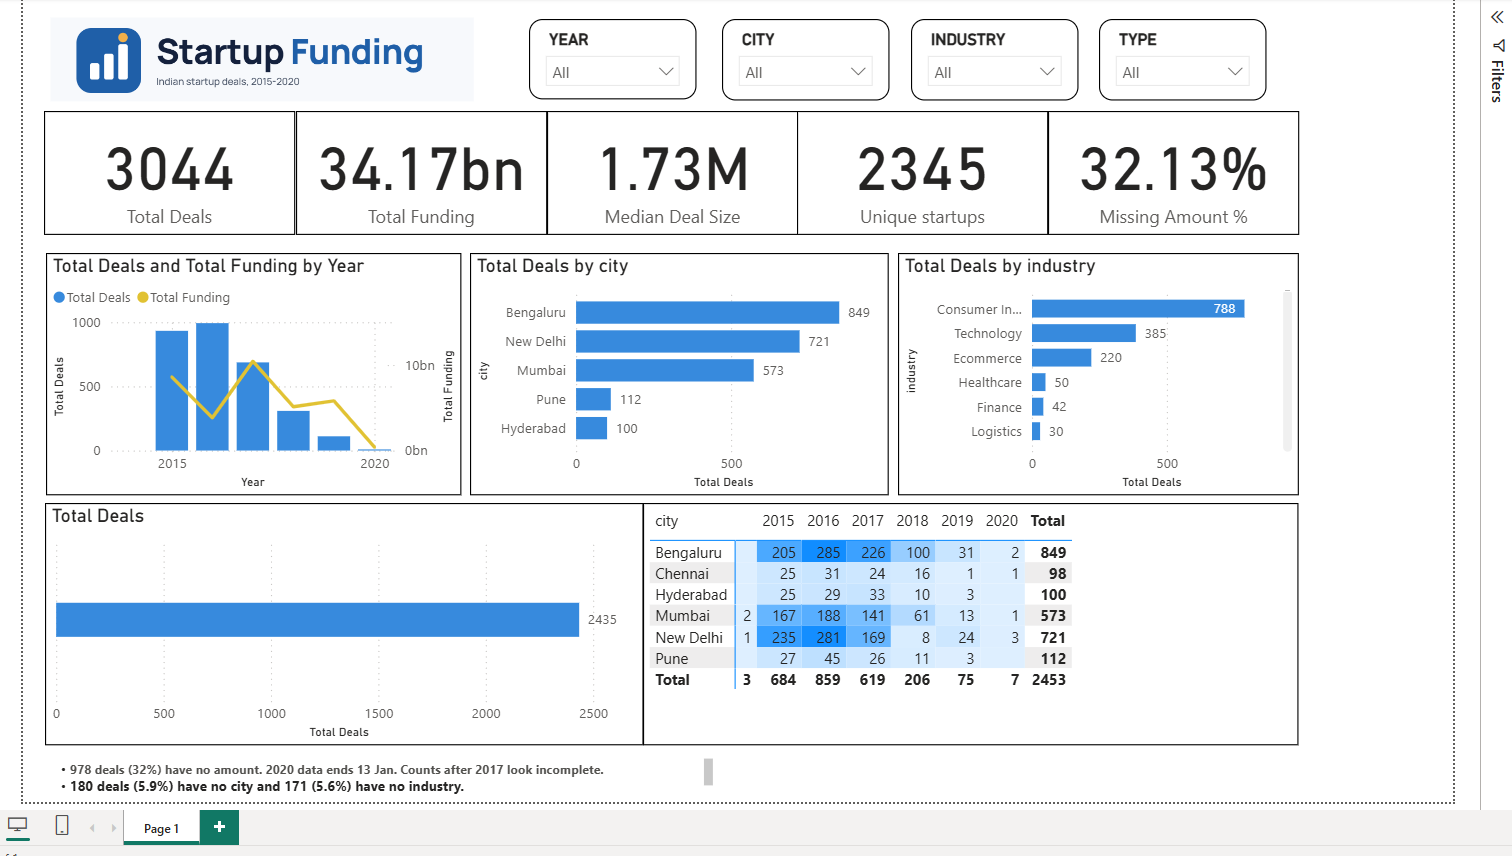

Layout of this report page (visuals, bound fields, positions):
{"tool":"powerbi","page":{"name":"Page 1","canvas":[1280,720],"ordinal":0},"visuals":[{"type":"card","title":"TOTAL DEALS","fields":{"Values":["Table.Total Deals"]},"box":[18.5,101.2,224.7,110.9],"z":0},{"type":"card","fields":{"Values":["Table.Total Funding"]},"box":[244.1,101.2,224.7,110.9],"z":1000},{"type":"card","fields":{"Values":["Table.Median Deal Size"]},"box":[468.8,101.2,224.7,110.9],"z":2000},{"type":"card","fields":{"Values":["Table.Unique startups"]},"box":[693.5,101.2,224.7,110.9],"z":3000},{"type":"card","fields":{"Values":["Table.Missing Amount %"]},"box":[918.2,101.2,224.7,110.9],"z":4000},{"type":"lineStackedColumnComboChart","fields":{"Category":["Date.Year"],"Y2":["Table.Total Funding"],"Y":["Table.Total Deals"]},"box":[20.4,228.6,371.6,216.9],"z":5000},{"type":"clusteredBarChart","fields":{"Y":["Table.Total Deals"],"Category":["startup_funding_clean.city"]},"box":[400.7,228.6,375.4,216.9],"z":6000},{"type":"clusteredBarChart","fields":{"Y":["Table.Total Deals"],"Category":["startup_funding_clean.industry"]},"box":[784,228.6,358.9,216.9],"z":7000},{"type":"clusteredBarChart","fields":{"Y":["Table.Total Deals"]},"box":[19.5,452.3,535.9,216.9],"z":8000},{"type":"pivotTable","fields":{"Rows":["startup_funding_clean.city"],"Columns":["Date.Date.Variation.Date Hierarchy.Year","Date.Date.Variation.Date Hierarchy.Quarter","Date.Date.Variation.Date Hierarchy.Month","Date.Date.Variation.Date Hierarchy.Day"],"Values":["Table.Total Deals"]},"box":[555.4,452.3,587.5,216.9],"z":9000},{"type":"slicer","title":"Year","fields":{"Values":["Date.Year"]},"box":[453.1,18.8,150.4,71.6],"z":10000},{"type":"slicer","title":"Year","fields":{"Values":["startup_funding_clean.city"]},"box":[626,18.8,149.6,73.4],"z":11000},{"type":"slicer","title":"Year","fields":{"Values":["startup_funding_clean.industry"]},"box":[795.2,18.8,149.6,73.4],"z":12000},{"type":"slicer","title":"Year","fields":{"Values":["startup_funding_clean.investment_type"]},"box":[963.6,18.8,149.6,73.4],"z":13000},{"type":"image","box":[19.5,12.6,389.1,84.6],"z":14000},{"type":"textbox","box":[18.8,676.1,604.5,43.9],"z":15000}]}

Visuals, with their boxes in screenshot pixels (x1, y1, x2, y2):
"TOTAL DEALS" card: [x1=37, y1=106, x2=289, y2=230]
card - Table.Total Funding: [x1=290, y1=106, x2=543, y2=230]
card - Table.Median Deal Size: [x1=543, y1=106, x2=795, y2=230]
card - Table.Unique startups: [x1=795, y1=106, x2=1047, y2=230]
card - Table.Missing Amount %: [x1=1047, y1=106, x2=1300, y2=230]
lineStackedColumnComboChart - Date.Year x Table.Total Funding: [x1=39, y1=249, x2=456, y2=493]
clusteredBarChart - Table.Total Deals x startup_funding_clean.city: [x1=466, y1=249, x2=888, y2=493]
clusteredBarChart - Table.Total Deals x startup_funding_clean.industry: [x1=897, y1=249, x2=1300, y2=493]
clusteredBarChart - Table.Total Deals: [x1=38, y1=500, x2=640, y2=744]
pivotTable - startup_funding_clean.city x Date.Date.Variation.Date Hierarchy.Year: [x1=640, y1=500, x2=1300, y2=744]
"Year" slicer: [x1=525, y1=13, x2=694, y2=94]
"Year" slicer: [x1=719, y1=13, x2=887, y2=96]
"Year" slicer: [x1=909, y1=13, x2=1077, y2=96]
"Year" slicer: [x1=1098, y1=13, x2=1267, y2=96]
image: [x1=38, y1=6, x2=475, y2=101]
textbox: [x1=37, y1=752, x2=716, y2=801]
